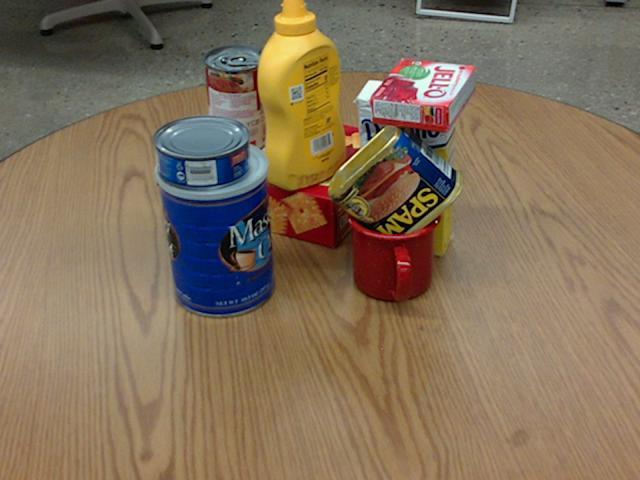cracker_box: (163, 102, 393, 248)
gelatin_box: (371, 58, 475, 131)
large_marker: (172, 138, 200, 244)
master_chef_can: (153, 136, 276, 315)
mug: (346, 189, 443, 303)
mustard_bottle: (258, 0, 346, 189)
potted_meat_can: (327, 119, 463, 252)
sugar_box: (357, 79, 457, 258)
tomato_soup_can: (203, 44, 268, 153)
tuna_fish_can: (152, 113, 249, 187)
